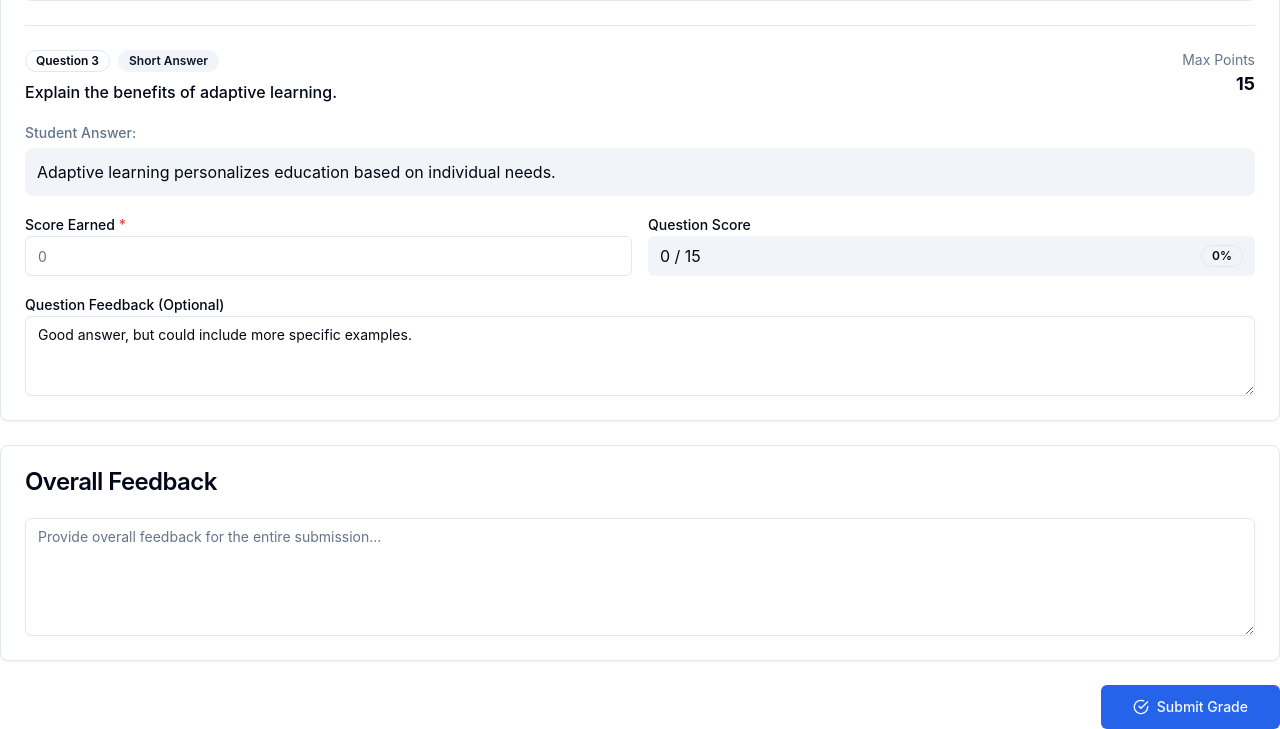
GradingForm › Validation › should show error when submitting without all scores
(page scrolled)
Click the button "Submit Grade" at (1190, 707), box x1=1101 y1=685 x2=1279 y2=728
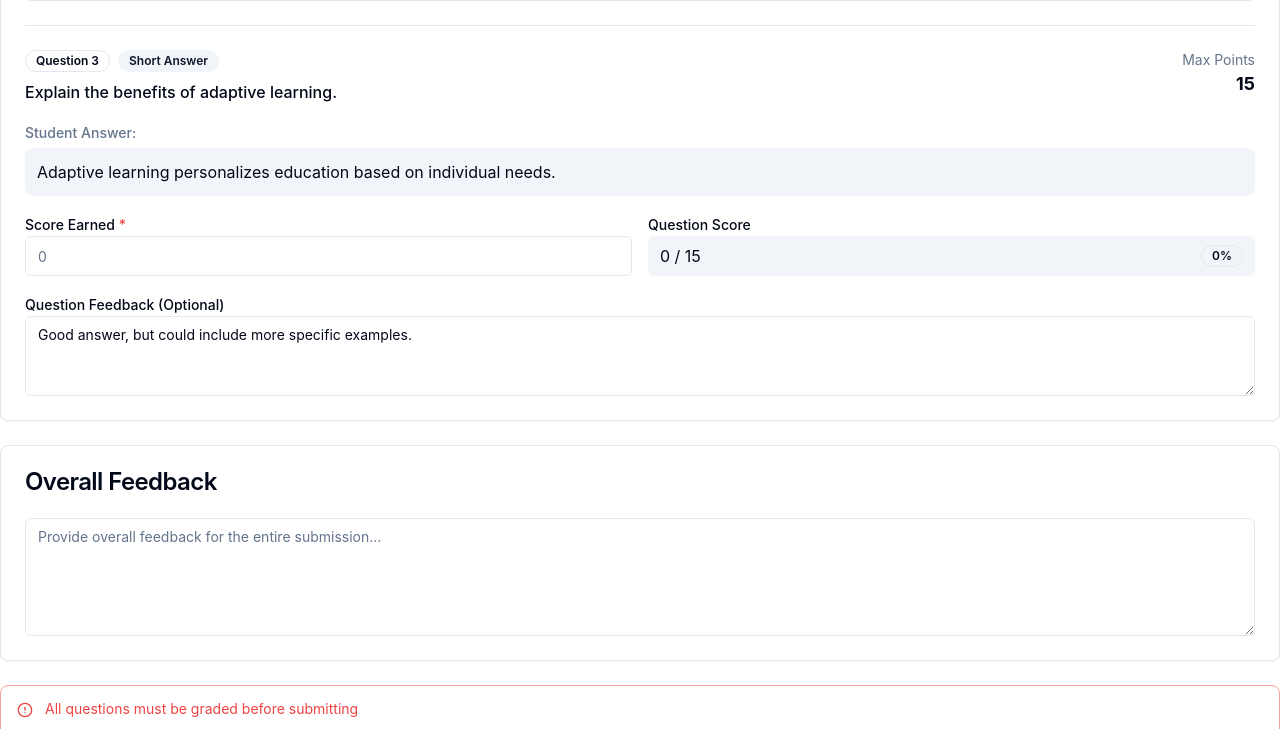
Check: the text "All questions must be graded before submitting" is shown, box x1=45 y1=700 x2=358 y2=717
